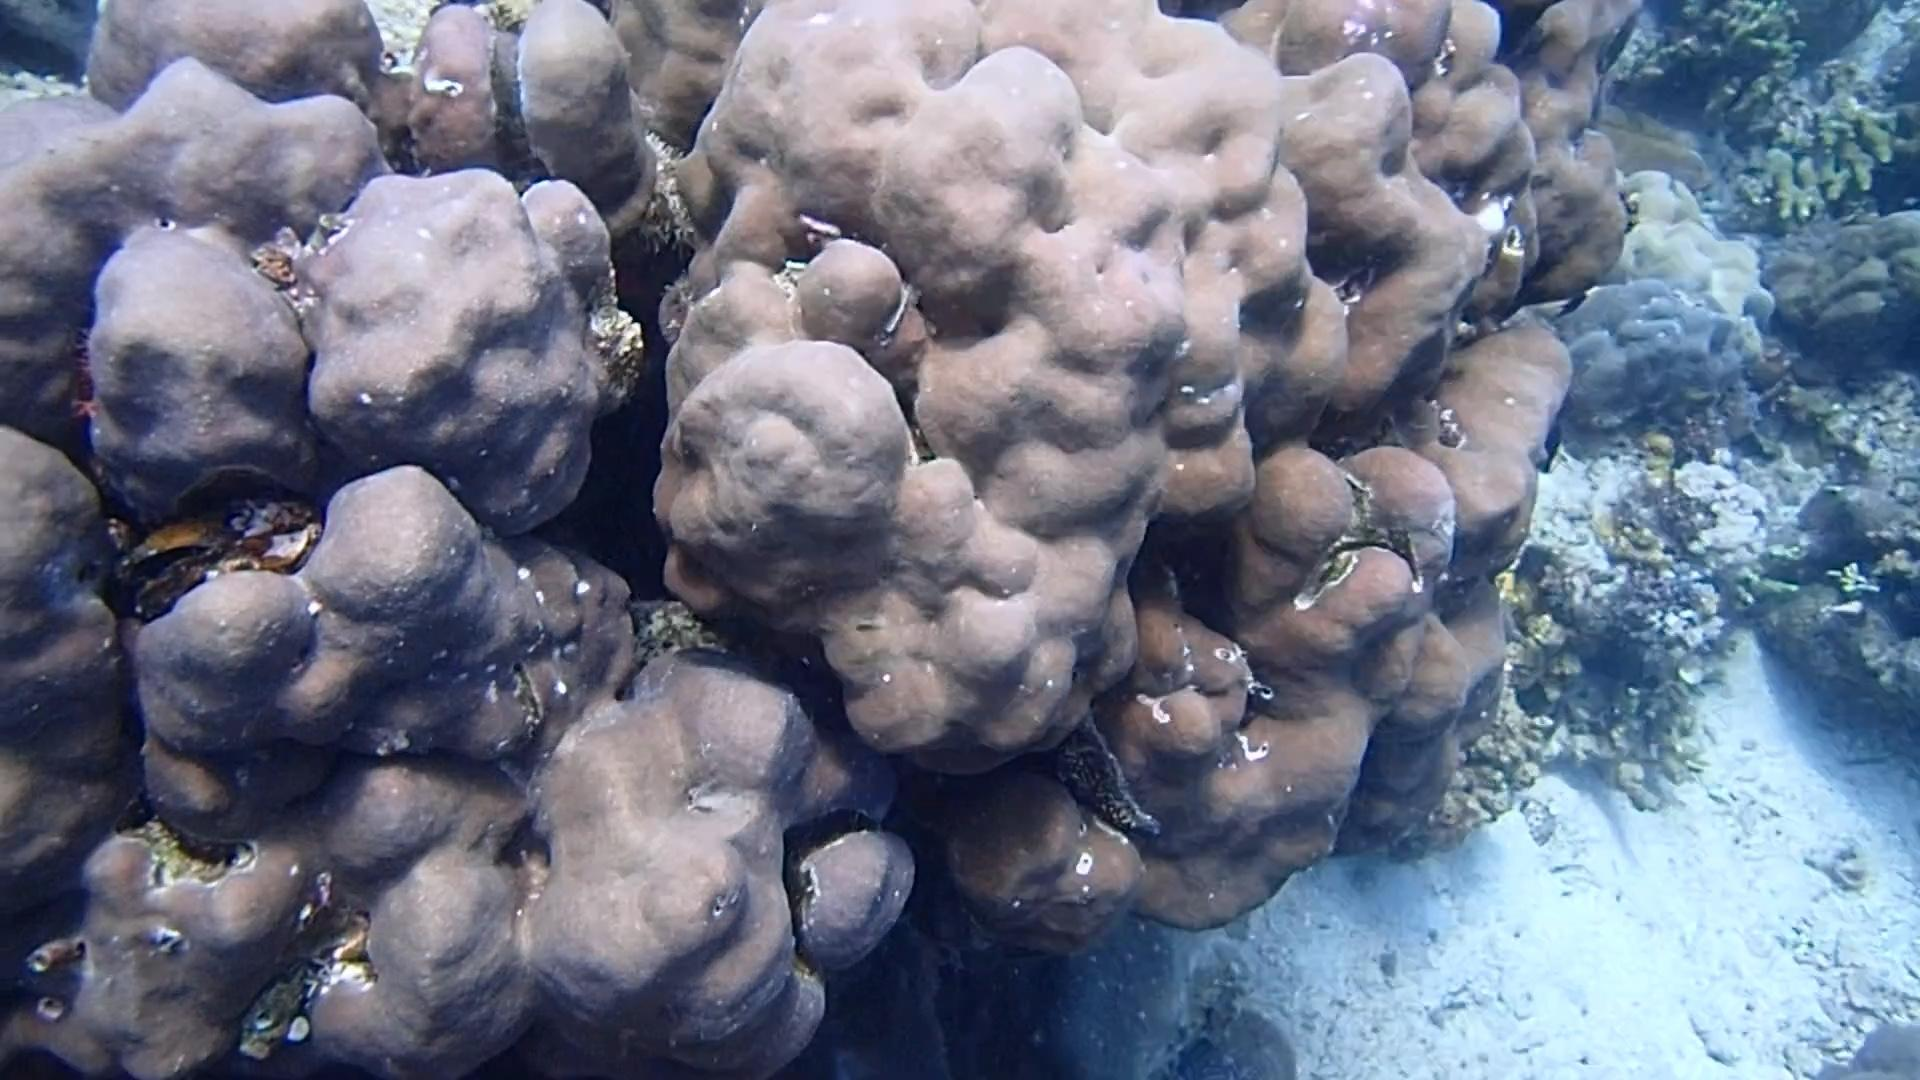Dark Fish: (1553, 284, 1592, 320)
